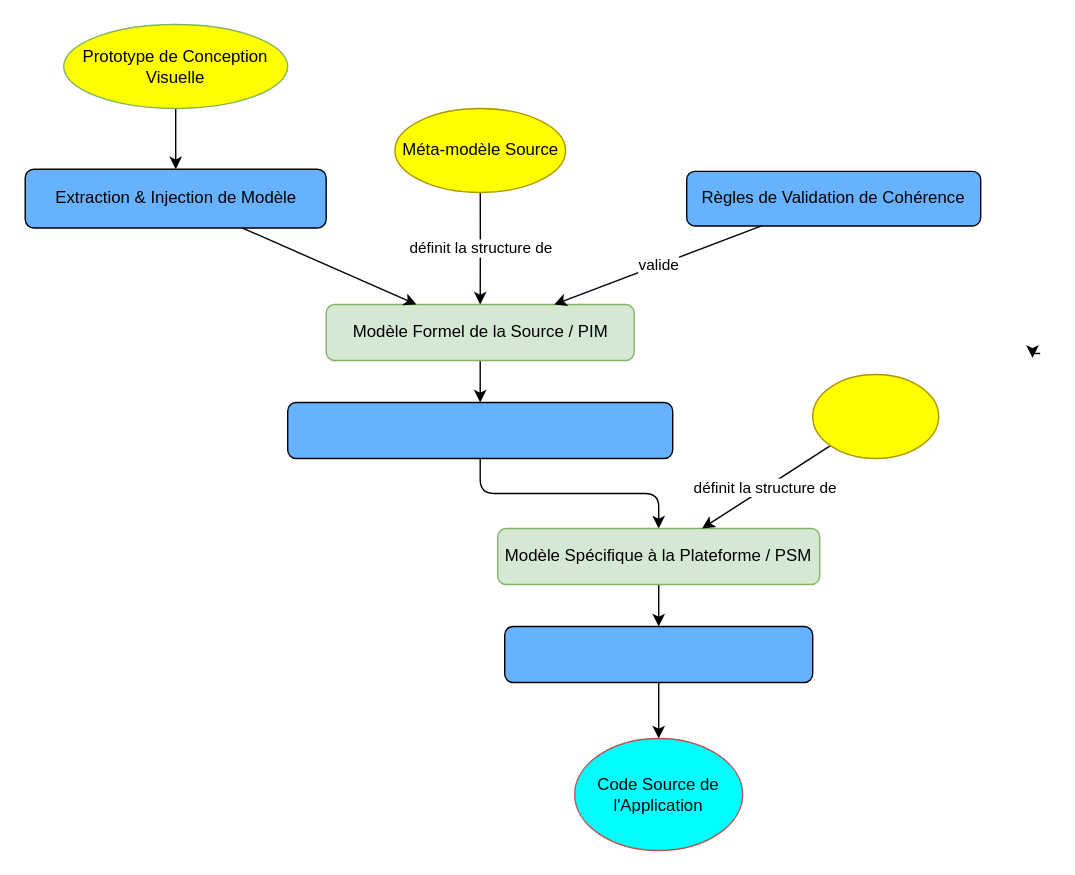
Image size: 1075x875. Some labels were removed from this diagram. Here are the shapes that lost their labels. From the top down, the box of each, then its label:
(286, 401, 673, 458): Transformation Modèle-à-Modèle (M2M)
(811, 373, 939, 458): Méta-modèle Cible
(503, 625, 813, 682): Génération Modèle-à-Texte (M2T)
